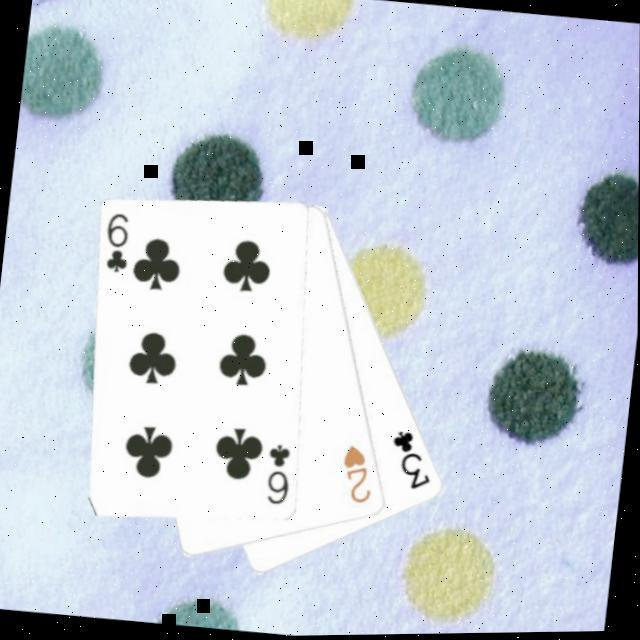2H: (334, 442, 378, 510)
3C: (384, 426, 438, 496)
6C: (259, 442, 296, 511), (98, 210, 134, 278)
